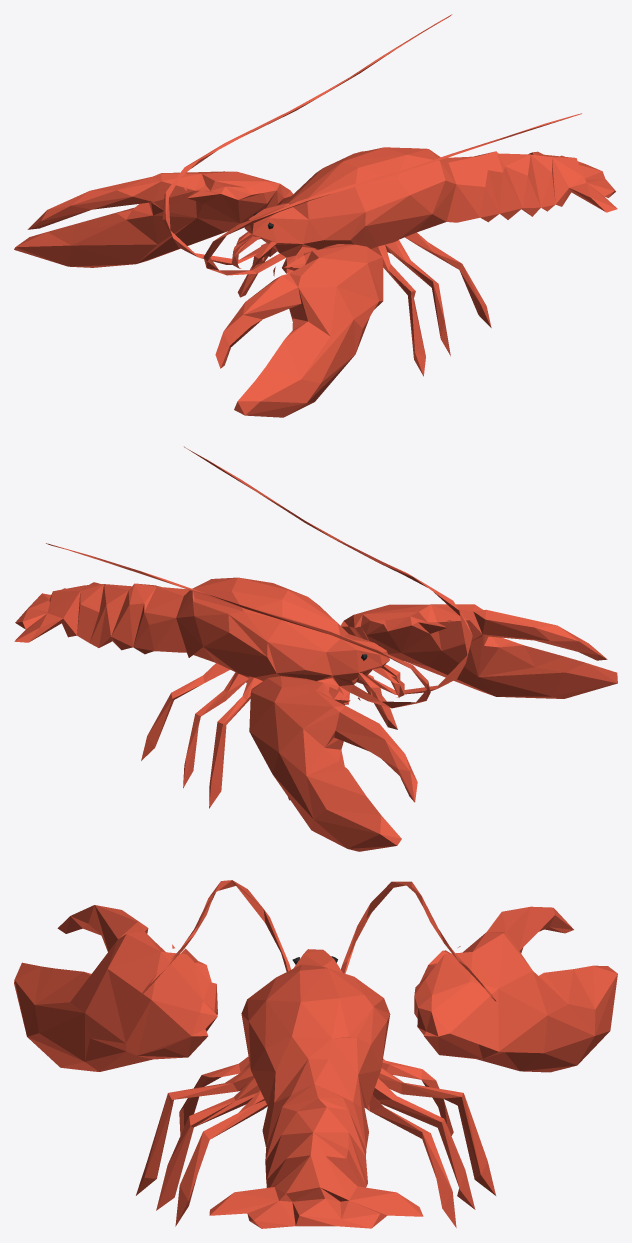
The model's file is langosta_reducida.fbx.
The picture shows the model from 3 angles, top to bottom: view 1: azimuth 30°, elevation 25°; view 2: azimuth 150°, elevation 25°; view 3: azimuth 270°, elevation 25°; orthographic projection. The views are drawn at different scales.
Visible parts, largest first — view 1: Sphere.001; view 2: Sphere.001; view 3: Sphere.001.
Part boxes in pixels (x1,y1,x2,y2): Sphere.001: [14, 14, 617, 417]; Sphere.001: [14, 446, 617, 851]; Sphere.001: [14, 880, 617, 1228].
Bounding box in the file's own units: 186 × 83.93 × 152.
